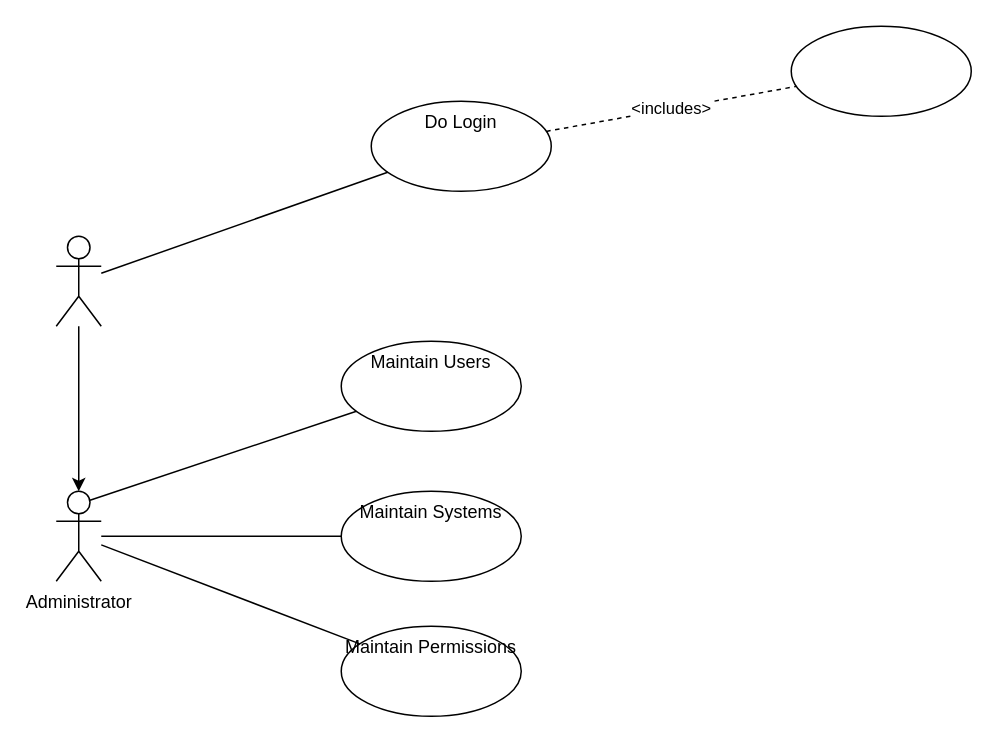
The diagram is 998 pixels wide and 743 high, and some of its shapes have lost their labels. The shapes that lost their labels are listed below. From the top down, each one's centre as x and y in pixels, then its label:
At [880,70]: "Check Permissions".
At [78,280]: "User".
